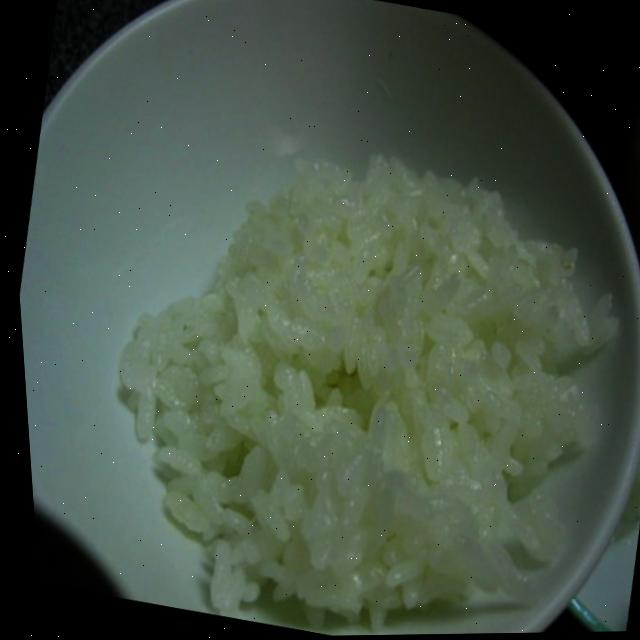米饭主食: (11, 60, 640, 640)
